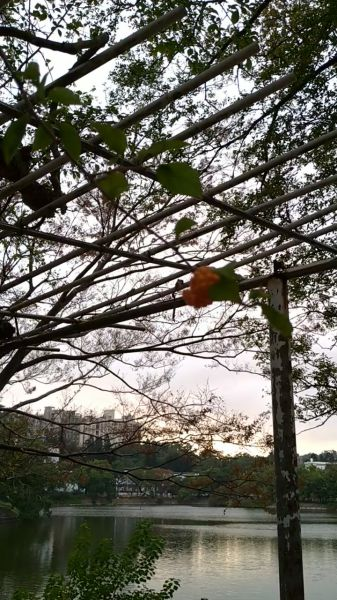eggs: (179, 260, 227, 316)
